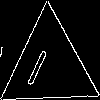I: (24, 40, 54, 88)
